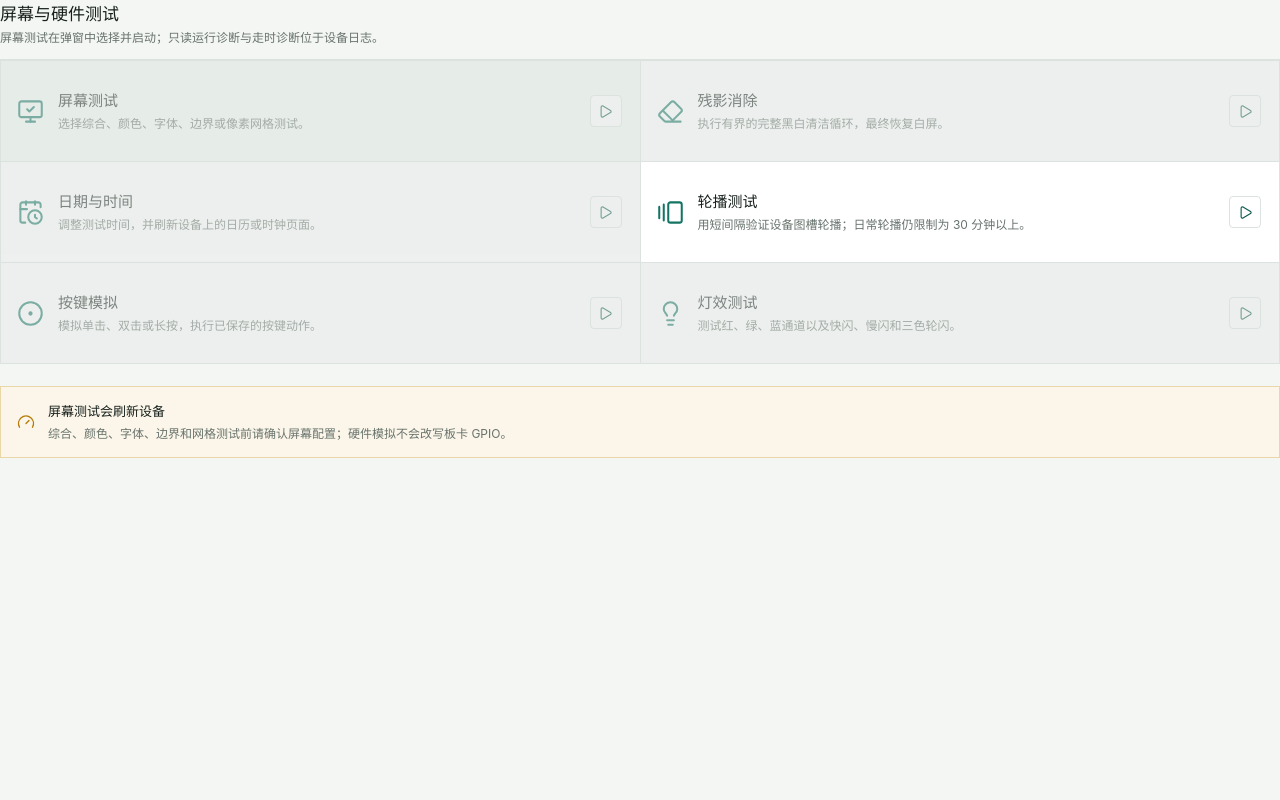
preserves the normal playable entry without auto-starting a slideshow
Click the button "轮播测试 用短间隔验证设备图槽轮播；日常轮播仍限制为 30 分钟以上。" at point(728, 202), box [640,162,1279,262]
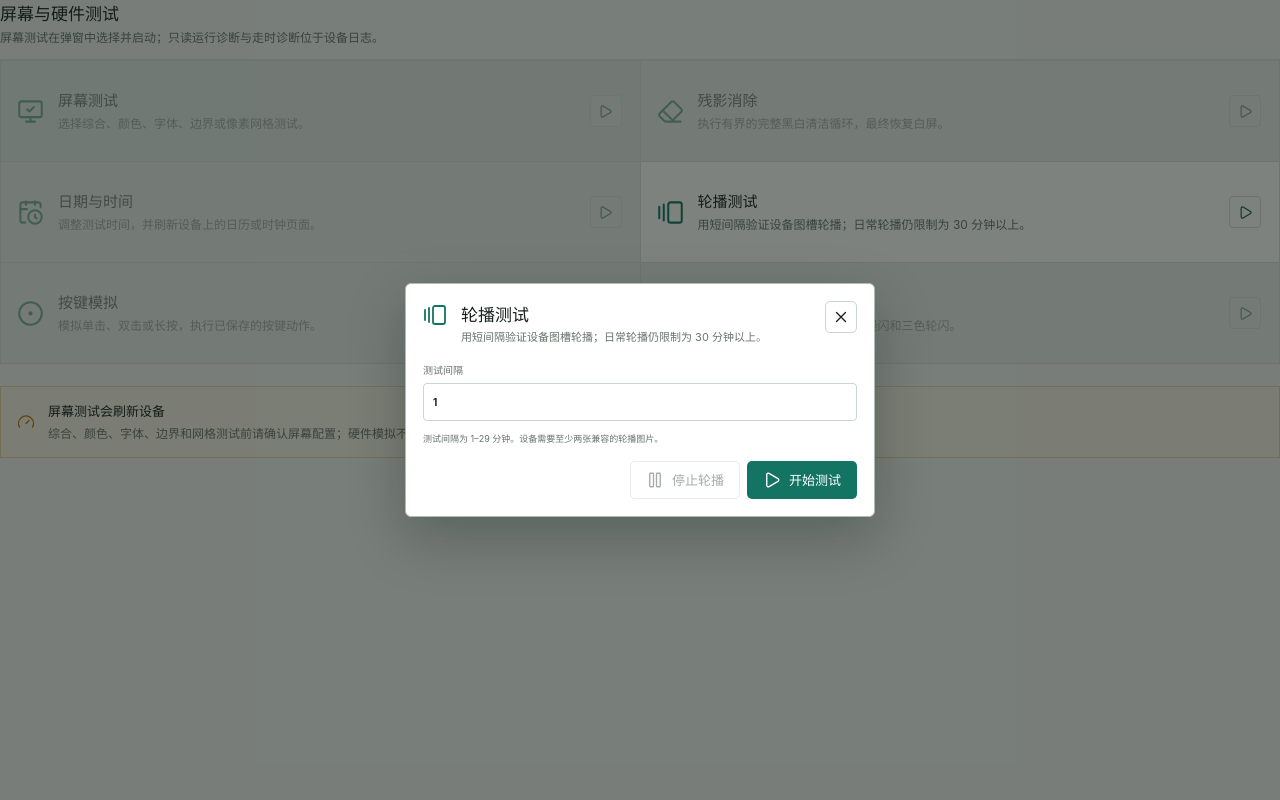
Expected: the dialog shows "设备需要至少两张兼容的轮播图片", [423,433,663,444]
